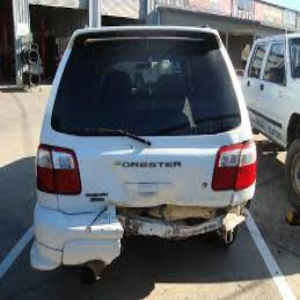bumper: (102, 191, 246, 269)
